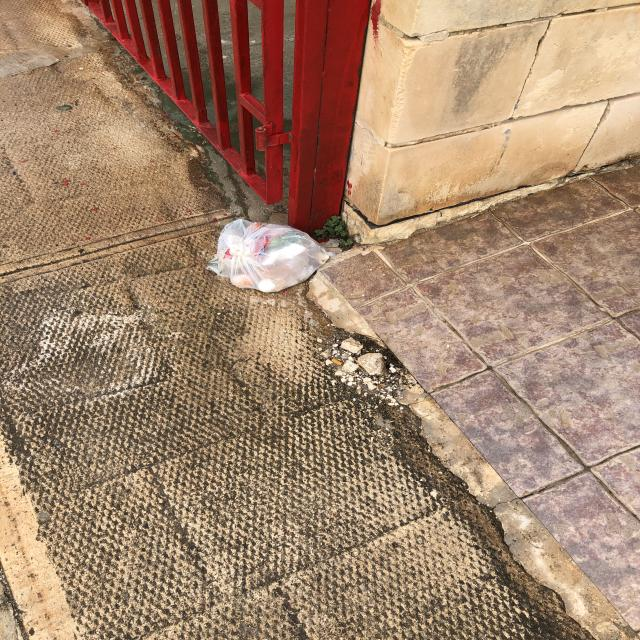Organic Waste -White Bag-: (207, 214, 334, 297)
